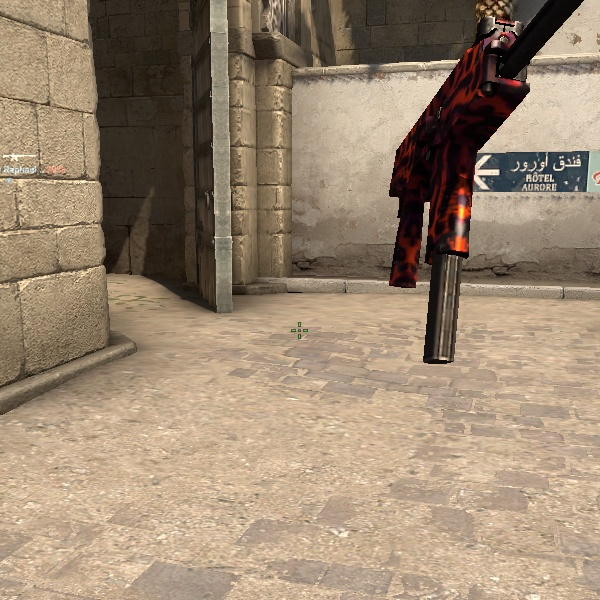t_body: (375, 0, 563, 352)
t_head: (466, 0, 532, 60)
